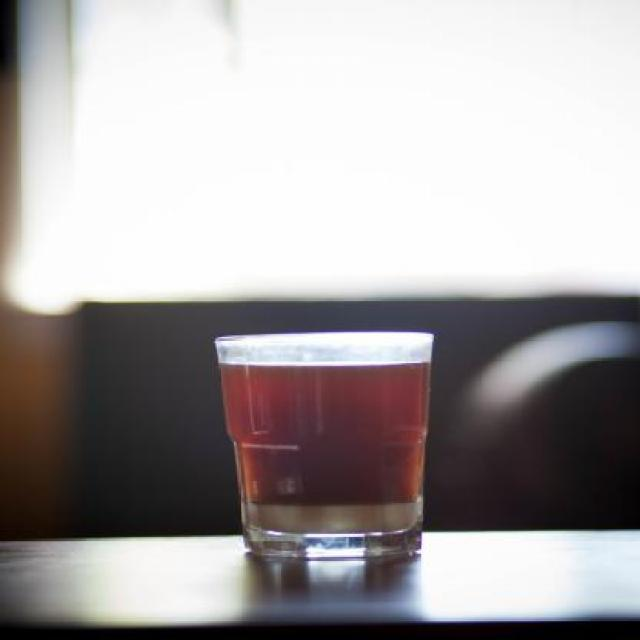Juice: (217, 362, 432, 510)
